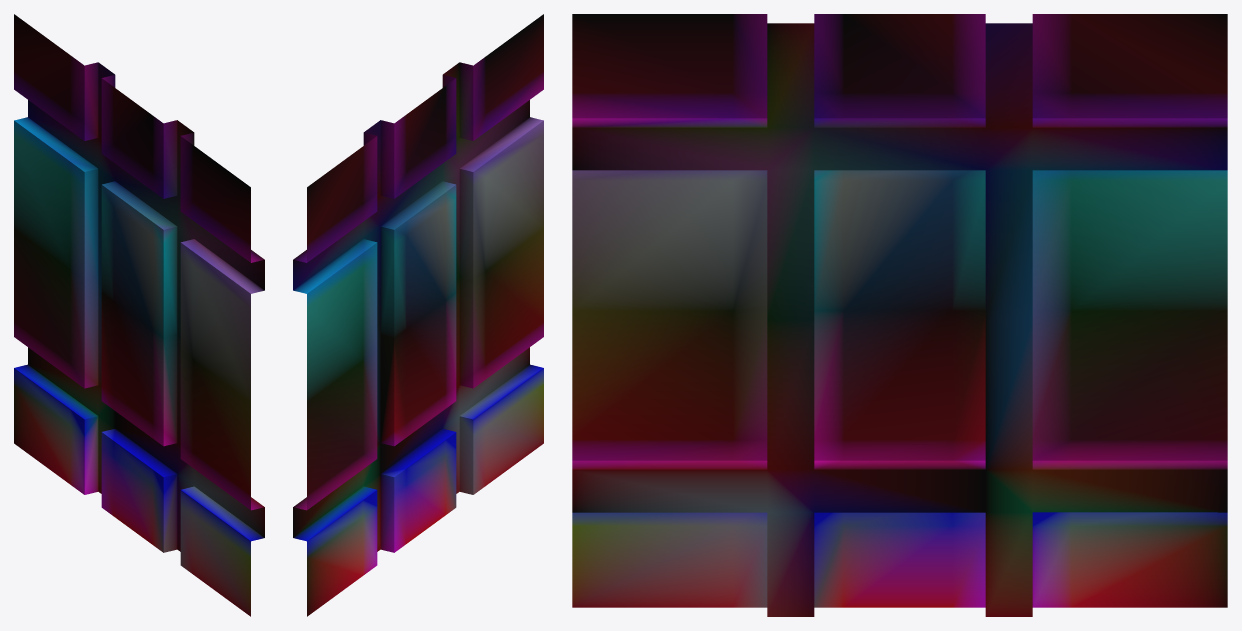
The model's file is WallSection_Test_01_Colortweak.fbx.
3 views of the same model, side by side, from view 1: azimuth 30°, elevation 25°; view 2: azimuth 150°, elevation 25°; view 3: azimuth 270°, elevation 25° (orthographic). The views are drawn at different scales.
Parts seen in each view (by area): view 1: Wall_Section_test_color_Tweak_01; view 2: Wall_Section_test_color_Tweak_01; view 3: Wall_Section_test_color_Tweak_01.
Part boxes in pixels (x1,y1,x2,y2): Wall_Section_test_color_Tweak_01: (14, 14, 264, 616); Wall_Section_test_color_Tweak_01: (293, 14, 543, 616); Wall_Section_test_color_Tweak_01: (572, 14, 1227, 616).
Bounding box in the file's own units: 20.7 × 617 × 617.
